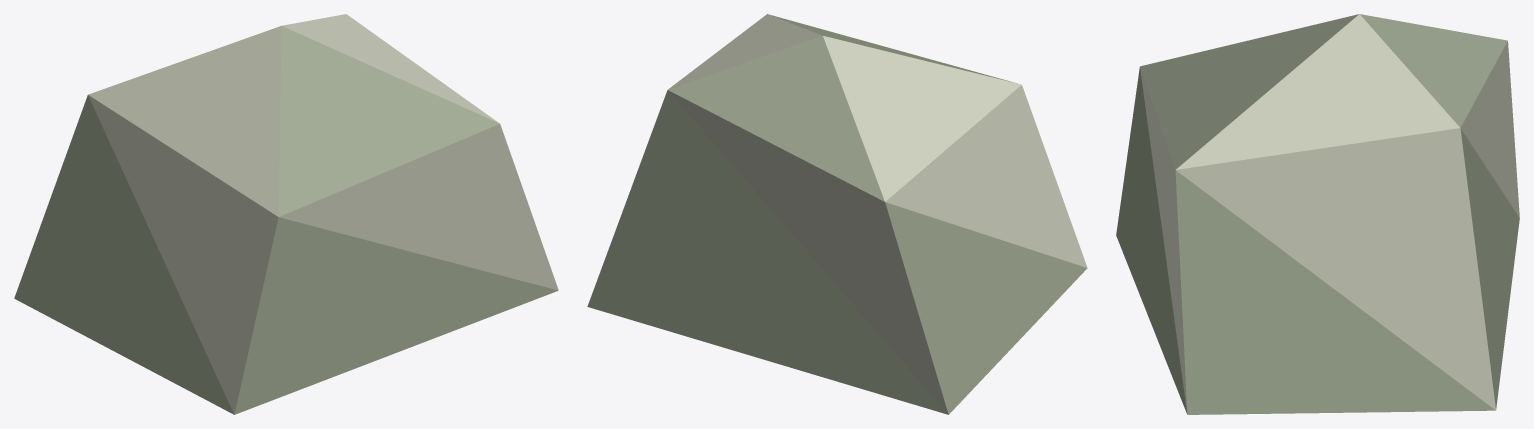
3 renders of one model, left to right at view 1: azimuth 30°, elevation 25°; view 2: azimuth 150°, elevation 25°; view 3: azimuth 270°, elevation 25°, orthographic. The views are drawn at different scales.
Parts seen in each view (by area): view 1: Silicate_Fragment; view 2: Silicate_Fragment; view 3: Silicate_Fragment.
Part boxes in pixels (x1,y1,x2,y2): Silicate_Fragment: (14, 14, 558, 414); Silicate_Fragment: (587, 14, 1087, 414); Silicate_Fragment: (1116, 14, 1519, 414).
Bounding box in the file's own units: 0.87 × 0.58 × 0.68.
